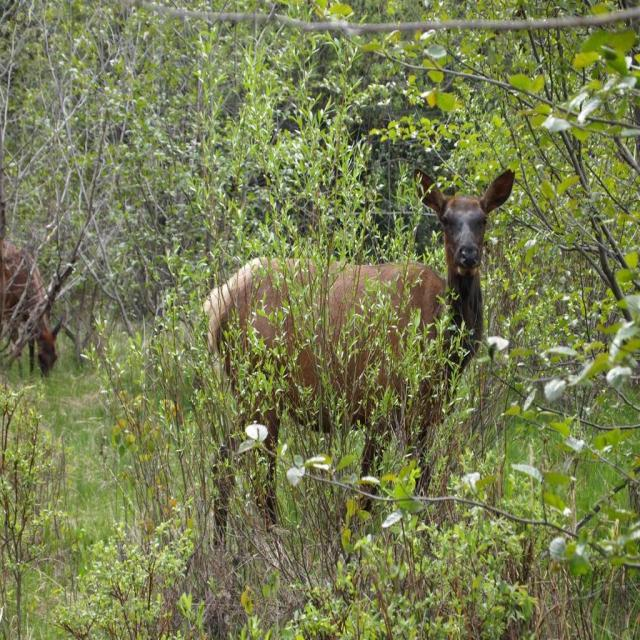Deer: (203, 165, 515, 566), (0, 240, 66, 380)
